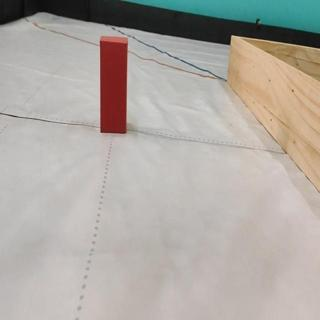redbox: (99, 35, 127, 133)
